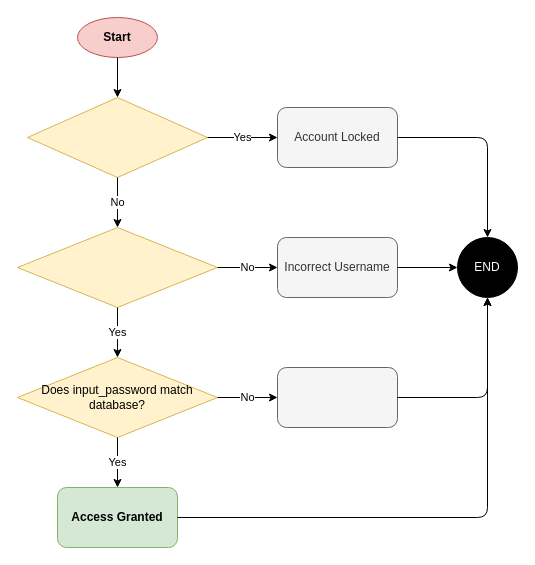
The diagram is 535 pixels wide and 565 high, and some of its shapes have lost their labels. Each missing label, with the centre of its shape:
"Does input_username match database?" belongs at (x=117, y=267).
"Incorrect Password" belongs at (x=337, y=397).
"Is failed_attempts >= 3?" belongs at (x=117, y=137).
